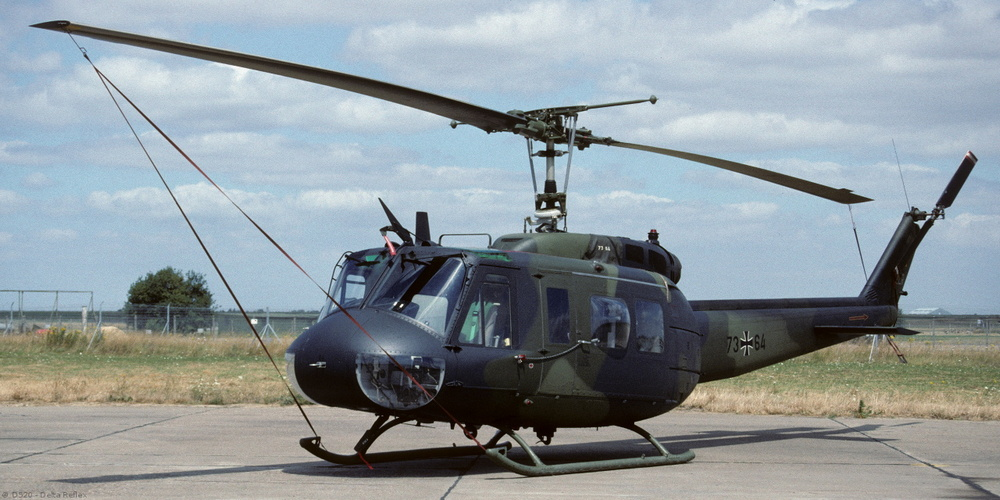Aeronef_militaire: (27, 14, 984, 480)
